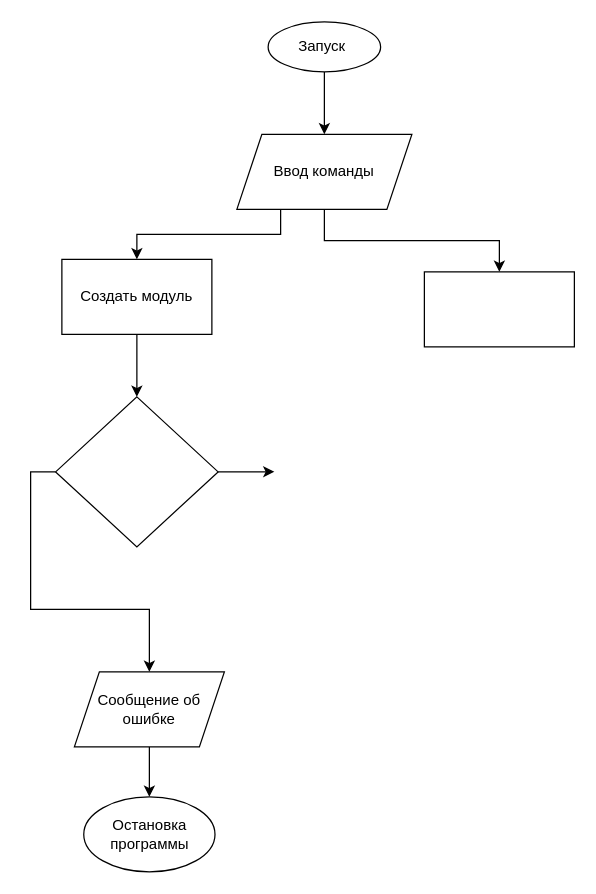
Image size: 596x894. Some labels were removed from this diagram. The shapes that lost their labels are listed below. From the top down, each one's centre as x and y in pixels, then its label:
pixel 498 309: Проверить проект на наличие необходимых модулей
pixel 136 471: Все указанные параметры введены верно
